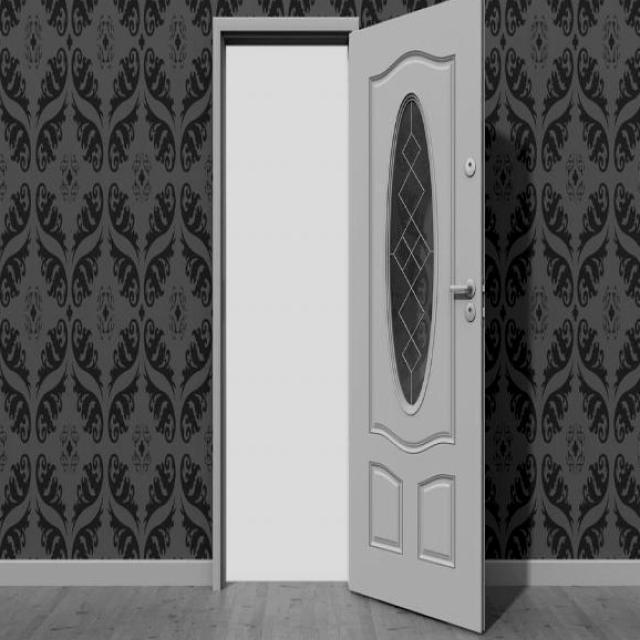door: (346, 0, 486, 633)
